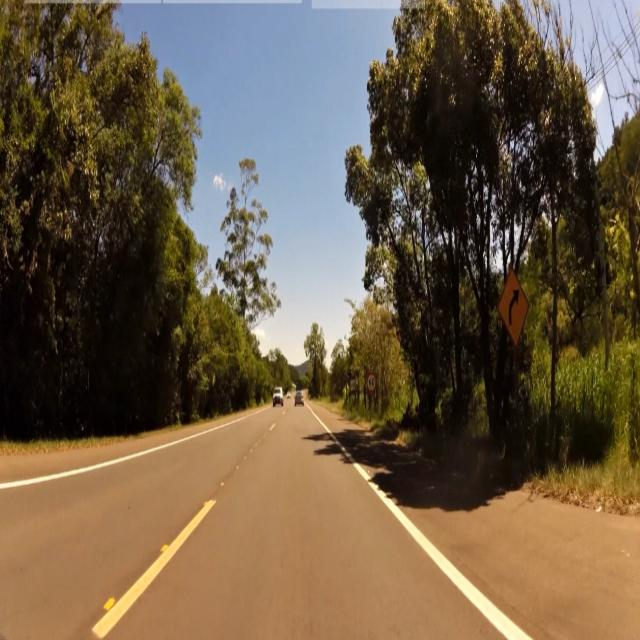A-2b: (498, 271, 530, 351)
